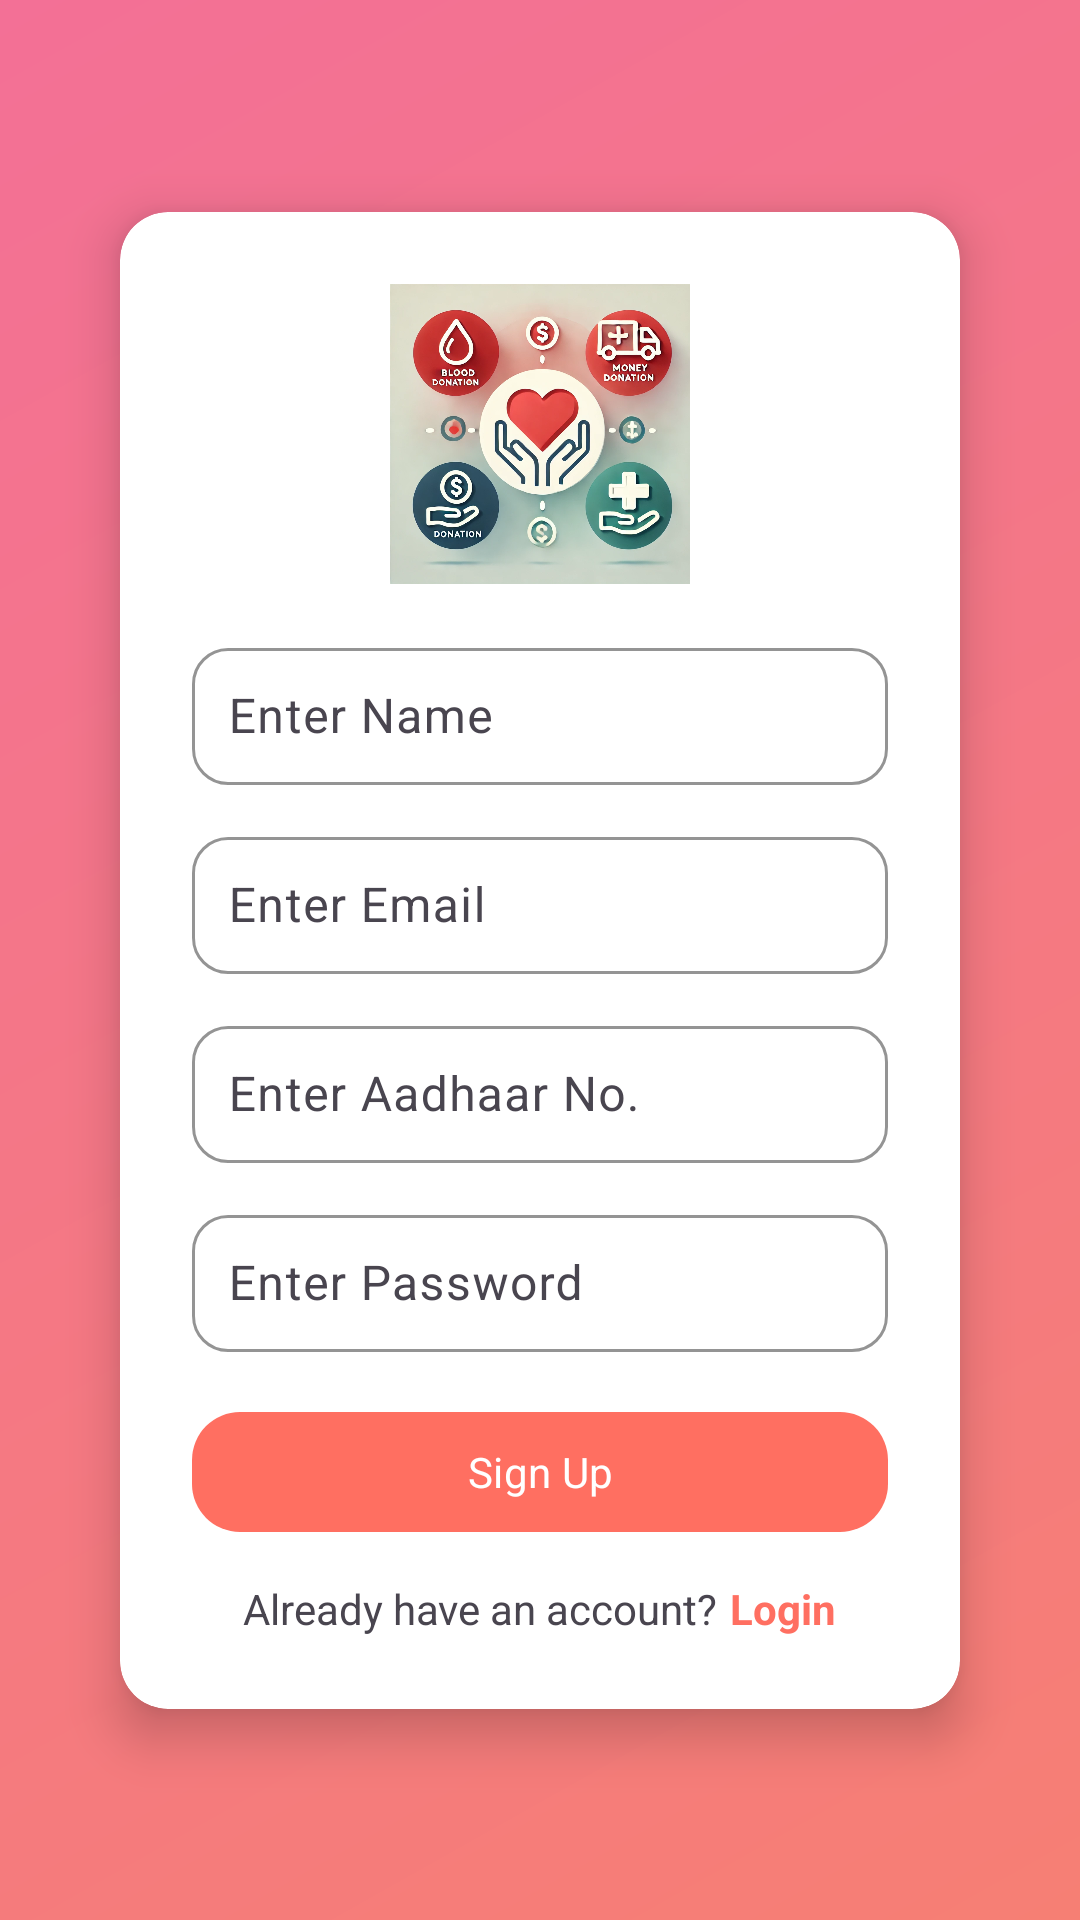

Locate icon controls on the screen. Image size 1080 × 1920, boxes as (x1, y1, x2, y2).
appicon: (390, 284, 690, 584)
